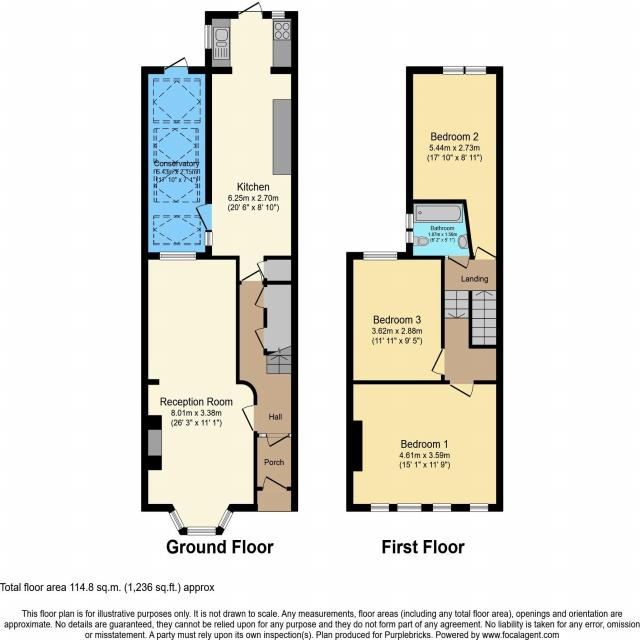DOOR: (193, 203, 212, 230), (237, 0, 264, 19), (449, 380, 475, 399), (240, 404, 257, 433), (164, 56, 190, 74), (429, 348, 445, 376), (262, 474, 288, 491), (473, 245, 497, 260), (448, 254, 470, 270), (266, 433, 289, 448)
ROOM: (140, 252, 258, 536), (193, 1, 298, 285), (346, 379, 504, 512), (405, 65, 504, 260), (346, 251, 446, 385)
WINDOW: (442, 65, 487, 76), (168, 508, 185, 533), (217, 507, 234, 531), (158, 251, 198, 261), (362, 251, 398, 261), (186, 526, 217, 536), (396, 503, 422, 513), (469, 502, 490, 513), (370, 502, 390, 513), (432, 503, 453, 513), (204, 24, 212, 50), (405, 213, 415, 229), (204, 231, 213, 248), (271, 10, 285, 20), (405, 231, 414, 244)
